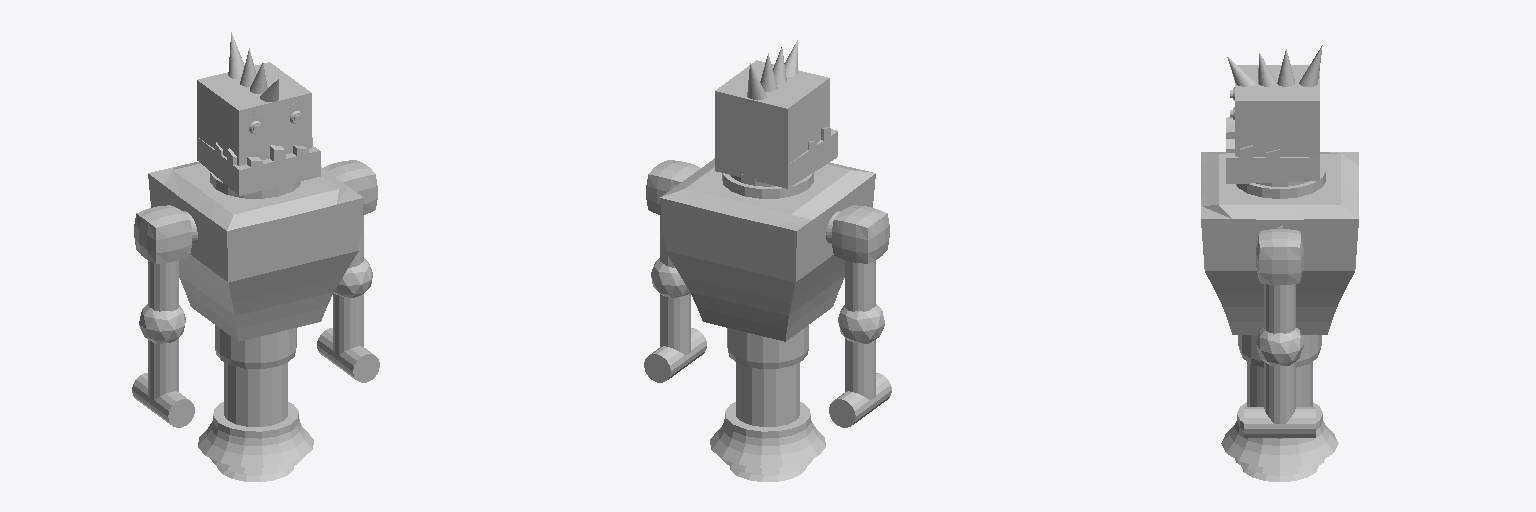
The model's file is RockSockemBotV1.2.obj.
The picture shows the model from 3 angles: view 1: azimuth 30°, elevation 25°; view 2: azimuth 150°, elevation 25°; view 3: azimuth 270°, elevation 25°; orthographic projection.
Parts seen in each view (by area): view 1: Torso2_Cube.001; view 2: Torso2_Cube.001; view 3: Torso2_Cube.001.
Part boxes in pixels (x1,y1,x2,y2): Torso2_Cube.001: (132,32,379,481); Torso2_Cube.001: (644,40,891,481); Torso2_Cube.001: (1201,45,1358,481).
Bounding box in the file's own units: 7.22 × 12.77 × 4.36.